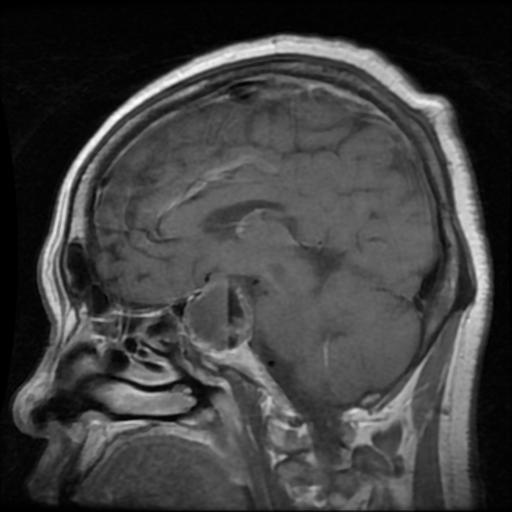Pituirity_tumour: (182, 276, 256, 355)
